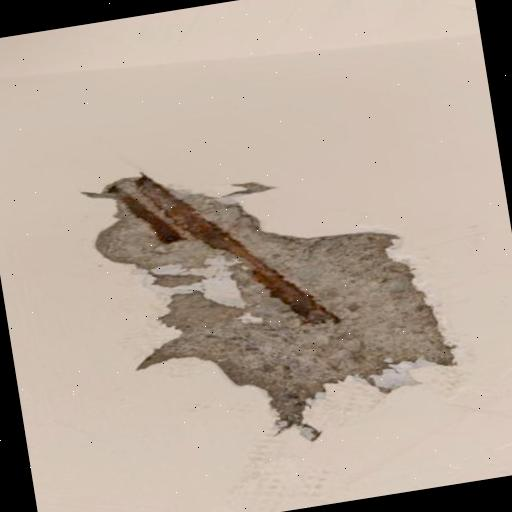spalling: (82, 167, 467, 438)
